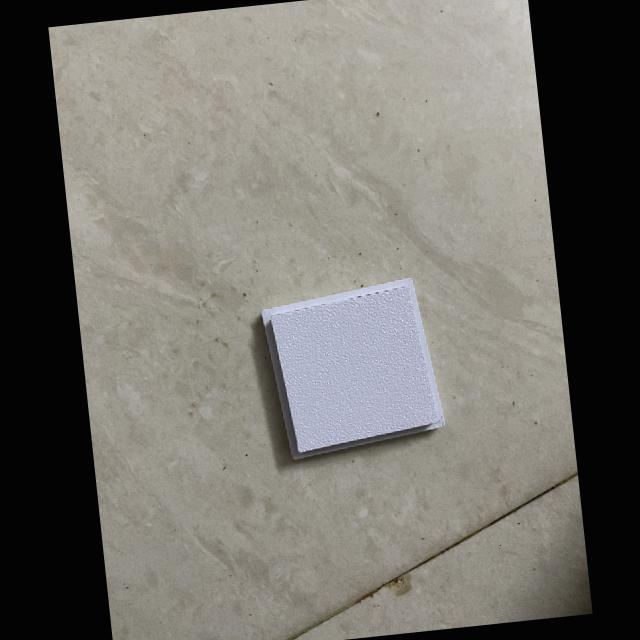RASPBERY PI CAM ENCLOSURE: (263, 280, 442, 456)
